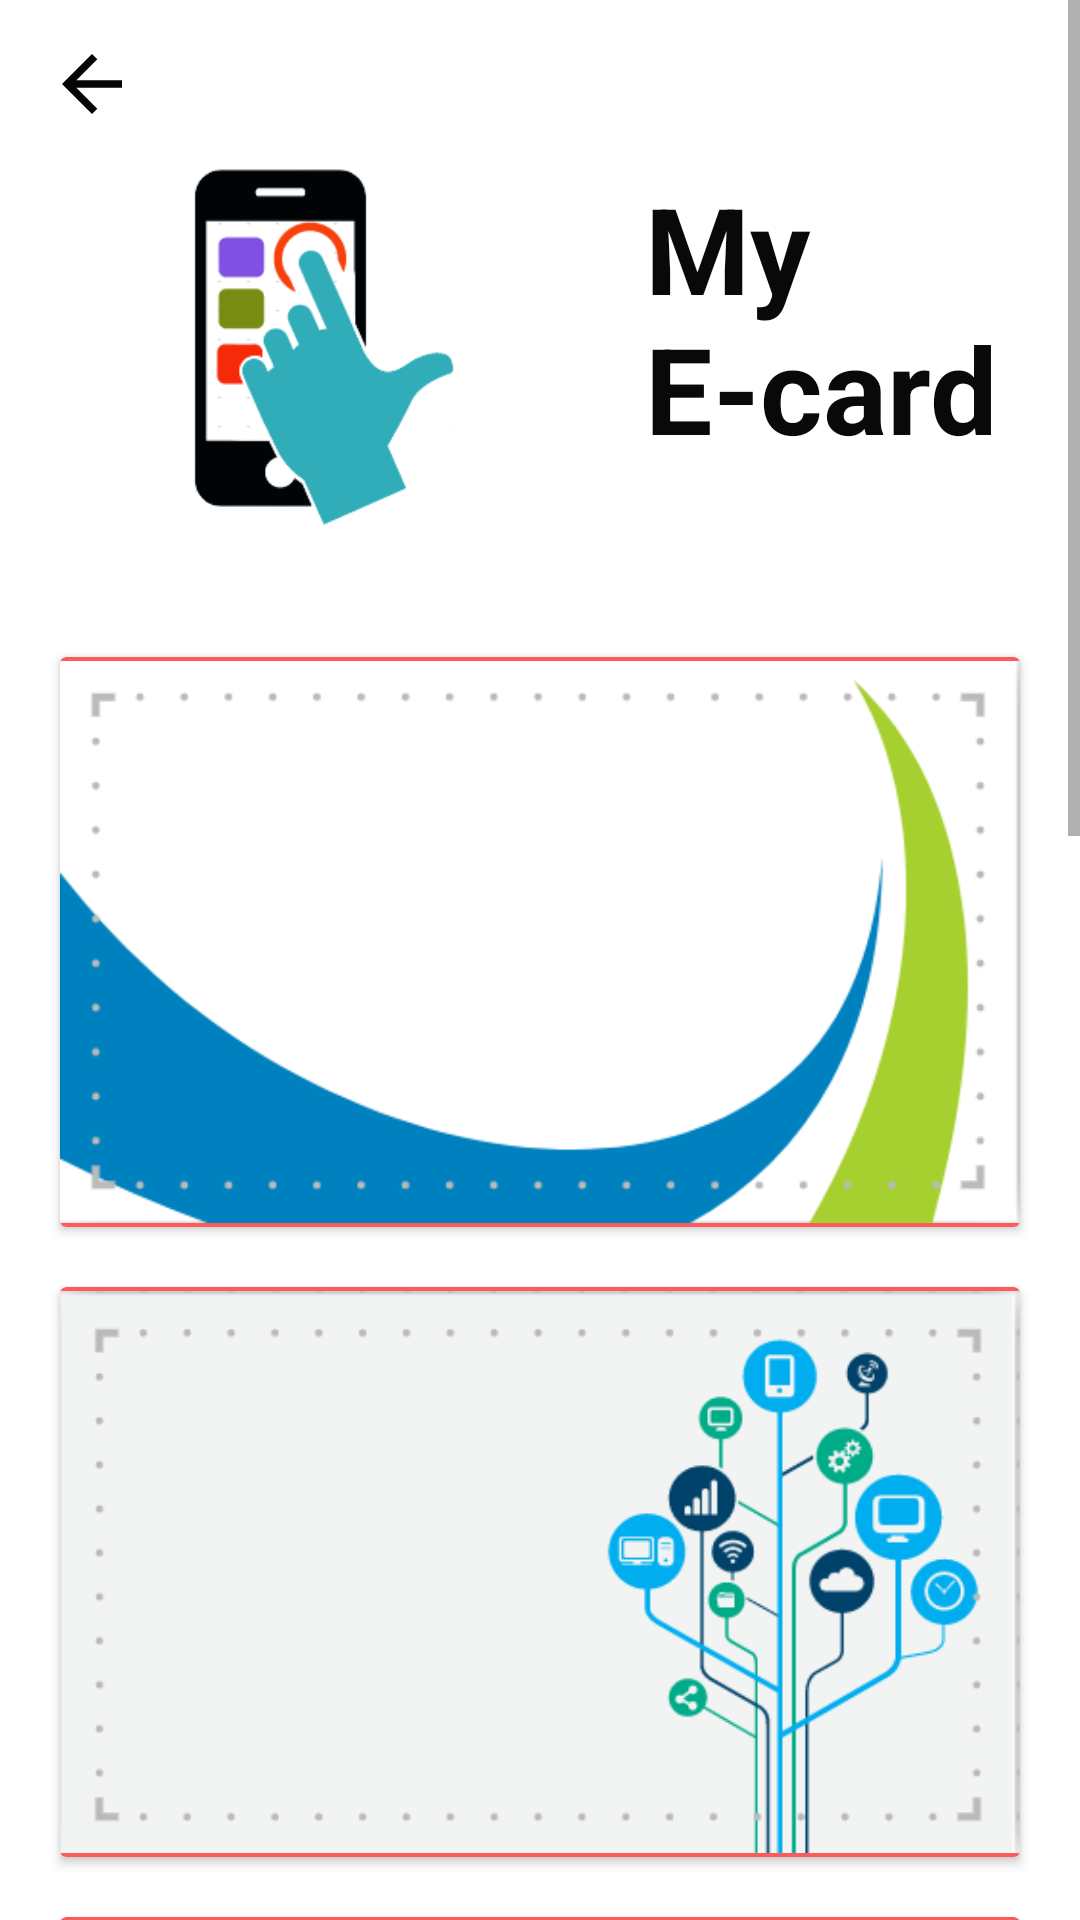

Point at icon controls on the screen. Image size 1080*1920, points as point (x, y).
back arrow: point (92, 84)
